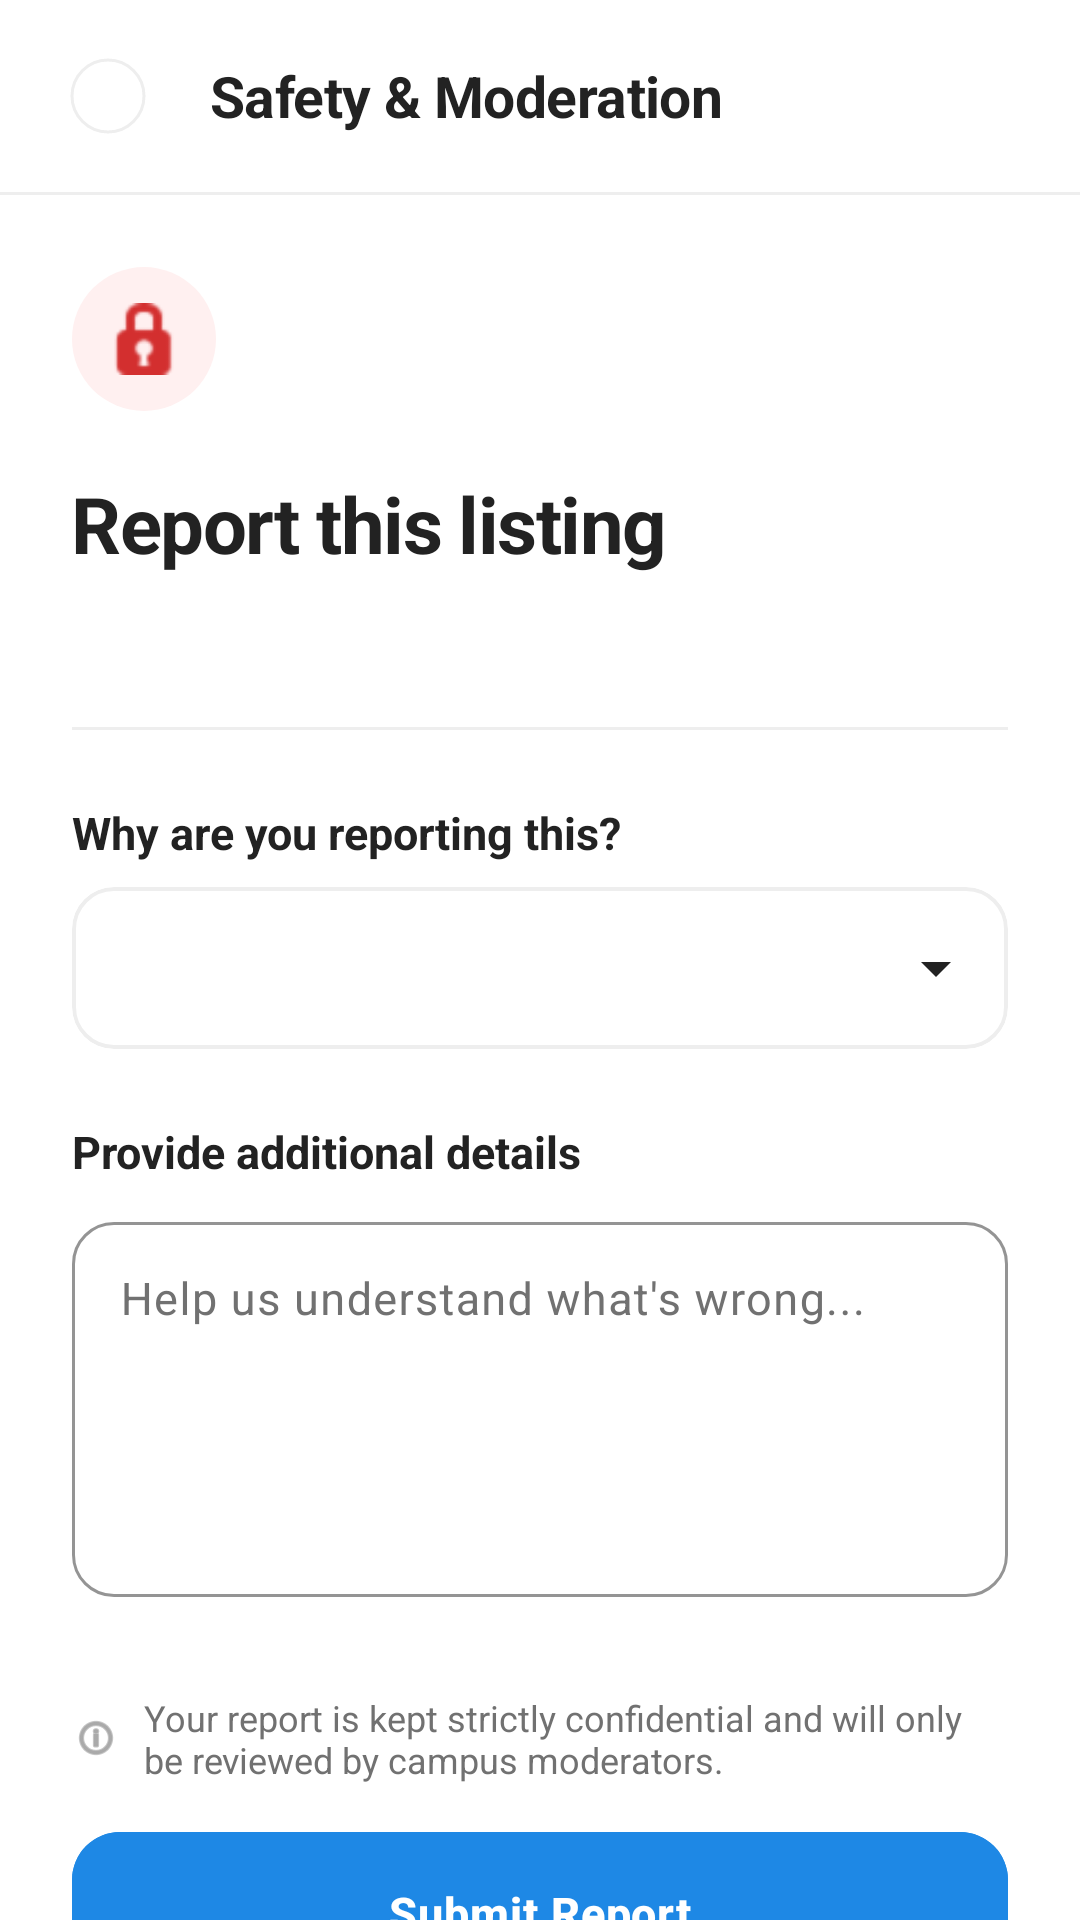

Icon bounding boxes for this 1080*1920 phone screenshot, format (x1, y1, x2, y2):
info details: (79, 1721, 113, 1755)
secure: (116, 303, 172, 375)
